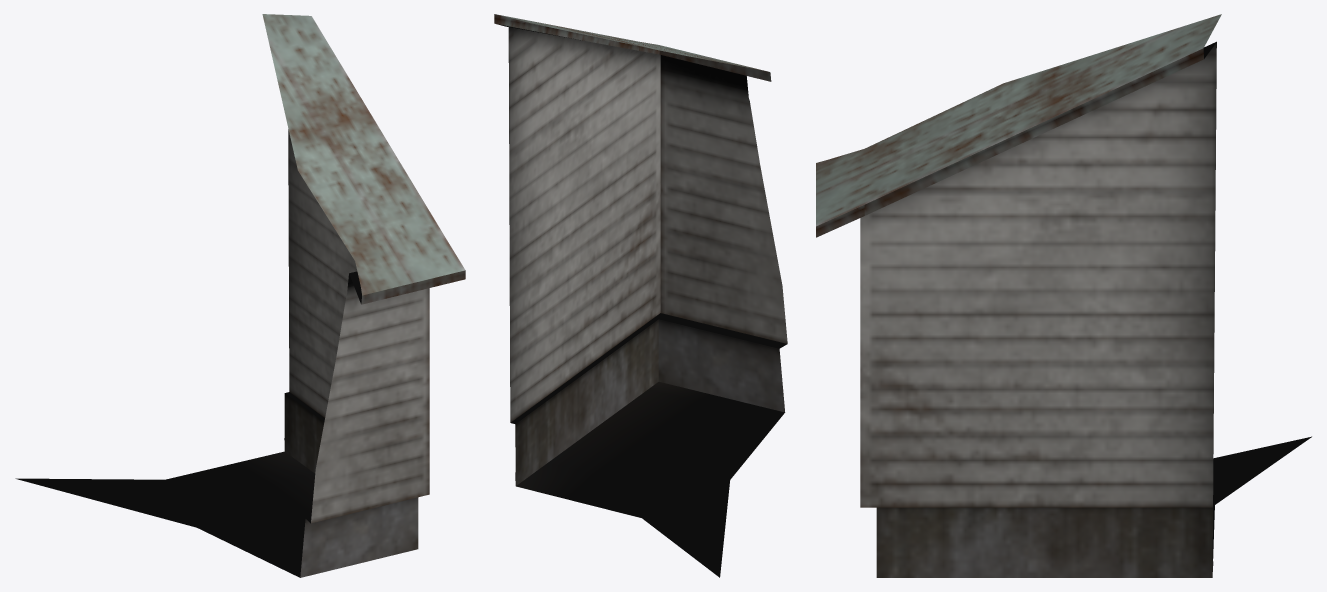
Rendered from House_02_01.fbx.
3 views of the same model, side by side, from view 1: azimuth 30°, elevation 25°; view 2: azimuth 150°, elevation 25°; view 3: azimuth 270°, elevation 25° (orthographic). The views are drawn at different scales.
Parts seen in each view (by area): view 1: Object001.001; view 2: Object001.001; view 3: Object001.001.
Boxes of the visible parts, <box> form: Object001.001: <box>15,14,465,577</box>; Object001.001: <box>494,14,787,577</box>; Object001.001: <box>816,14,1311,577</box>.
Size of the model in its own units: 4.58 by 7.57 by 6.16.
1 material, 1 textured.
